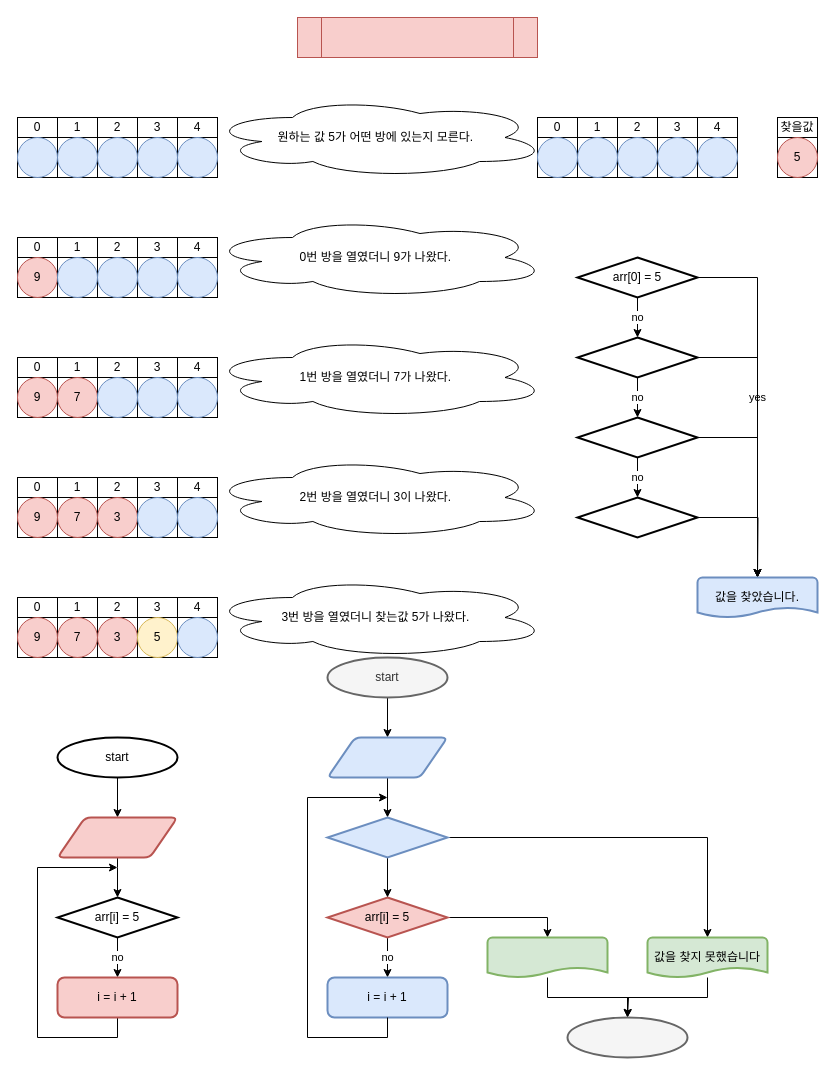
Image size: 836x1076. Some labels were removed from this diagram. The shapes that lost their labels are listed below. From the top down, each one's box as (x1, y1, x2, y2) in pixels, then its label:
(296, 16, 538, 58): Linear Search
(576, 336, 698, 378): arr[1] = 5
(576, 416, 698, 458): arr[2] = 5
(576, 496, 698, 538): arr[3] = 5
(326, 736, 448, 778): arr i = 0
(56, 816, 178, 858): i = 0
(326, 816, 448, 858): i < arr.length
(486, 936, 608, 978): i번째에서 찾았습니다
(566, 1016, 688, 1058): end
